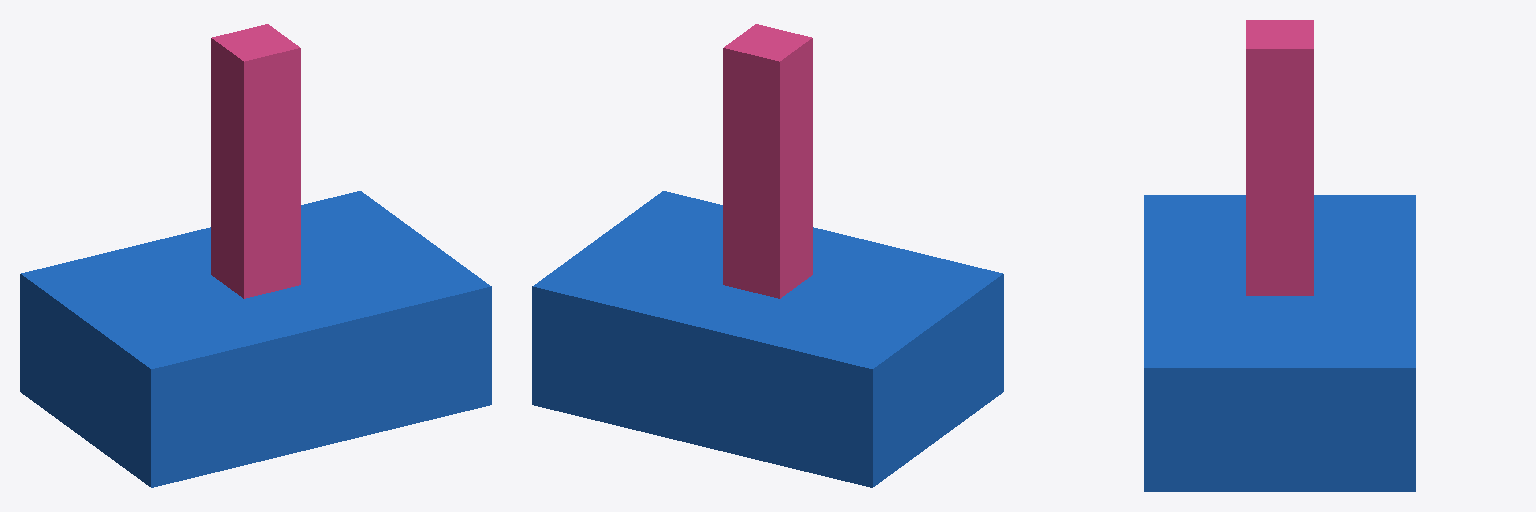
The robot description file, URDF, robot "structure_demo":
<?xml version="1.0"?>
<robot name="structure_demo">
  <!-- 연습용만: AX 실제 치수나 제어 코드가 아닙니다. -->
  <link name="base_link">
    <visual>
      <origin xyz="0 0 0.10" rpy="0 0 0"/>
      <geometry><box size="0.60 0.40 0.20"/></geometry>
      <material name="demo_blue"><color rgba="0.20 0.50 0.85 1"/></material>
    </visual>
    <collision>
      <origin xyz="0 0 0.10" rpy="0 0 0"/>
      <geometry><box size="0.60 0.40 0.20"/></geometry>
    </collision>
    <inertial>
      <origin xyz="0 0 0.10" rpy="0 0 0"/>
      <mass value="10.0"/>
      <inertia ixx="0.1666667" ixy="0" ixz="0" iyy="0.3333333" iyz="0" izz="0.4333333"/>
    </inertial>
  </link>
  <link name="arm_link">
    <visual>
      <origin xyz="0 0 0.20" rpy="0 0 0"/>
      <geometry><box size="0.10 0.10 0.40"/></geometry>
      <material name="demo_pink"><color rgba="0.90 0.35 0.60 1"/></material>
    </visual>
    <collision>
      <origin xyz="0 0 0.20" rpy="0 0 0"/>
      <geometry><box size="0.10 0.10 0.40"/></geometry>
    </collision>
    <inertial>
      <origin xyz="0 0 0.20" rpy="0 0 0"/>
      <mass value="1.0"/>
      <inertia ixx="0.0141667" ixy="0" ixz="0" iyy="0.0141667" iyz="0" izz="0.0016667"/>
    </inertial>
  </link>
  <joint name="shoulder_joint" type="revolute">
    <parent link="base_link"/>
    <child link="arm_link"/>
    <origin xyz="0 0 0.20" rpy="0 0 0"/>
    <axis xyz="0 1 0"/>
    <limit lower="-1.57" upper="1.57" effort="2" velocity="1"/>
  </joint>
</robot>

--- Render facts (derived) ---
The picture shows the robot from 3 angles, left to right: view 1: azimuth 30°, elevation 25°; view 2: azimuth 150°, elevation 25°; view 3: azimuth 270°, elevation 25°; orthographic projection.
Model structure_demo with 2 links and 1 joints (1 revolute), rooted at base_link, posed every joint at zero.
Links seen in each view (by area): view 1: base_link, arm_link; view 2: base_link, arm_link; view 3: base_link, arm_link.
Link boxes in pixels (left/top/right/bottom): base_link: left=20, top=191, right=491, bottom=487; arm_link: left=211, top=24, right=300, bottom=298; base_link: left=532, top=191, right=1003, bottom=487; arm_link: left=723, top=24, right=812, bottom=298; base_link: left=1144, top=195, right=1415, bottom=491; arm_link: left=1246, top=20, right=1313, bottom=295.
Size in the robot's own frame: 0.6 by 0.4 by 0.6 metres.
Geometry: primitives only (box / cylinder / sphere), no mesh files.
